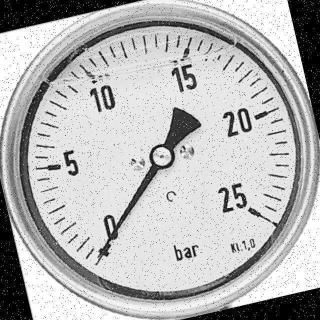gauge: (0, 0, 320, 320), (84, 226, 125, 272), (230, 190, 274, 232), (149, 143, 175, 169), (93, 245, 109, 261)
